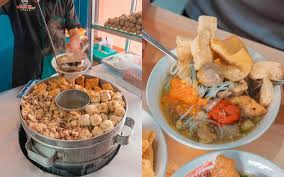bakso: (159, 36, 275, 145)
